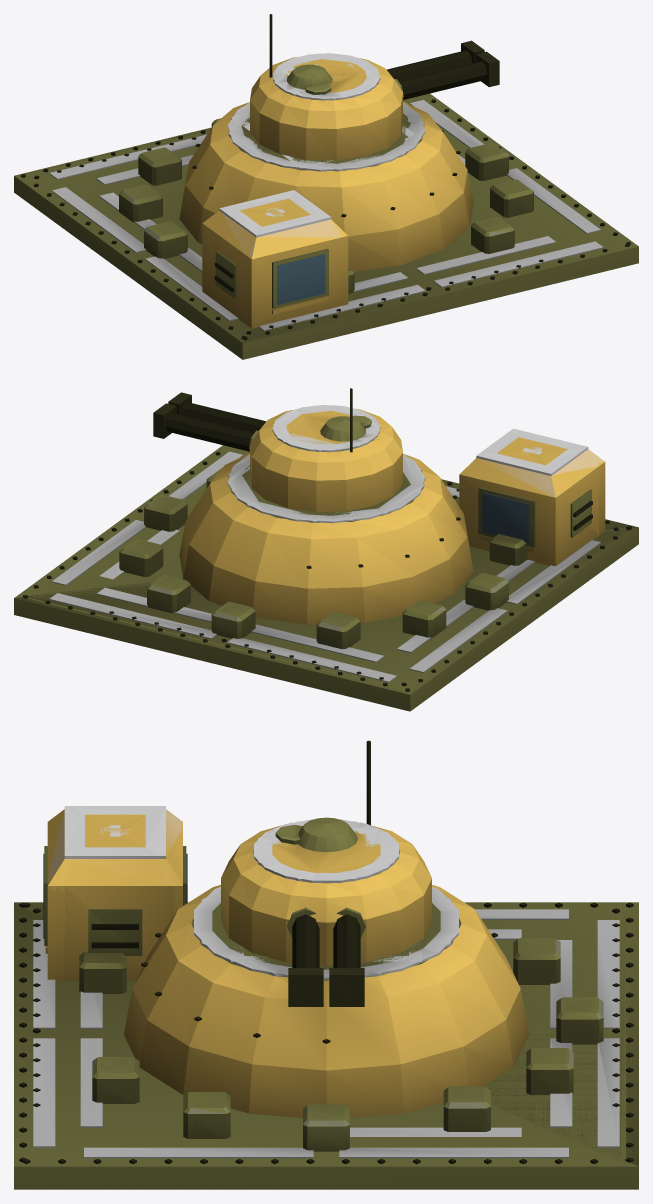
The model's file is meridian_advanced_defences.glb.
The picture shows the model from 3 angles, top to bottom: view 1: azimuth 30°, elevation 25°; view 2: azimuth 150°, elevation 25°; view 3: azimuth 270°, elevation 25°; orthographic projection. The views are drawn at different scales.
Visible parts, largest first — view 1: body (×3), turret (×2), barrel; view 2: body (×3), turret (×3), barrel; view 3: body (×3), turret (×2), barrel.
Boxes of the visible parts, left/top/right/bottom form: body (×3): left=14, top=93, right=638, bottom=359; turret (×2): left=250, top=14, right=402, bottom=160; barrel: left=387, top=40, right=499, bottom=99; body (×3): left=14, top=428, right=638, bottom=711; turret (×3): left=250, top=388, right=402, bottom=512; barrel: left=153, top=392, right=265, bottom=451; body (×3): left=14, top=806, right=638, bottom=1189; turret (×2): left=221, top=740, right=431, bottom=965; barrel: left=287, top=907, right=365, bottom=1006.
Bounding box in the file's own units: 7.4 × 3.78 × 7.4.
